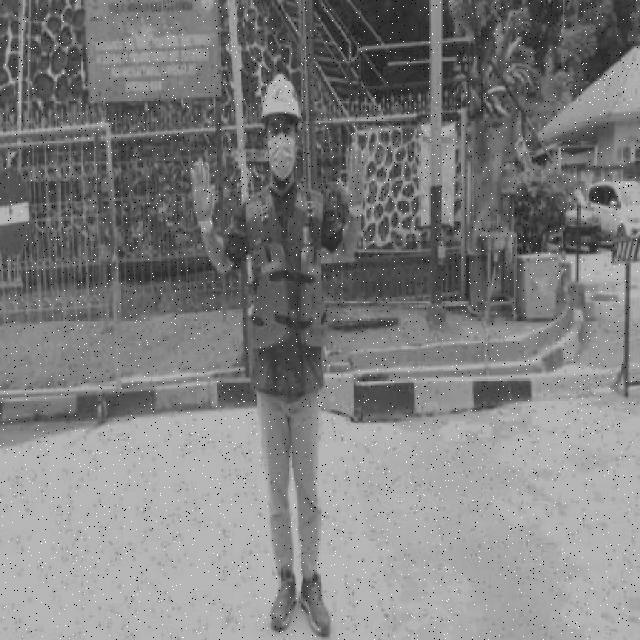Boots: (298, 570, 332, 638), (270, 567, 298, 635)
Gloves: (334, 142, 368, 220), (188, 156, 218, 238)
Helmet: (260, 70, 303, 121)
Mask: (246, 238, 332, 352)
